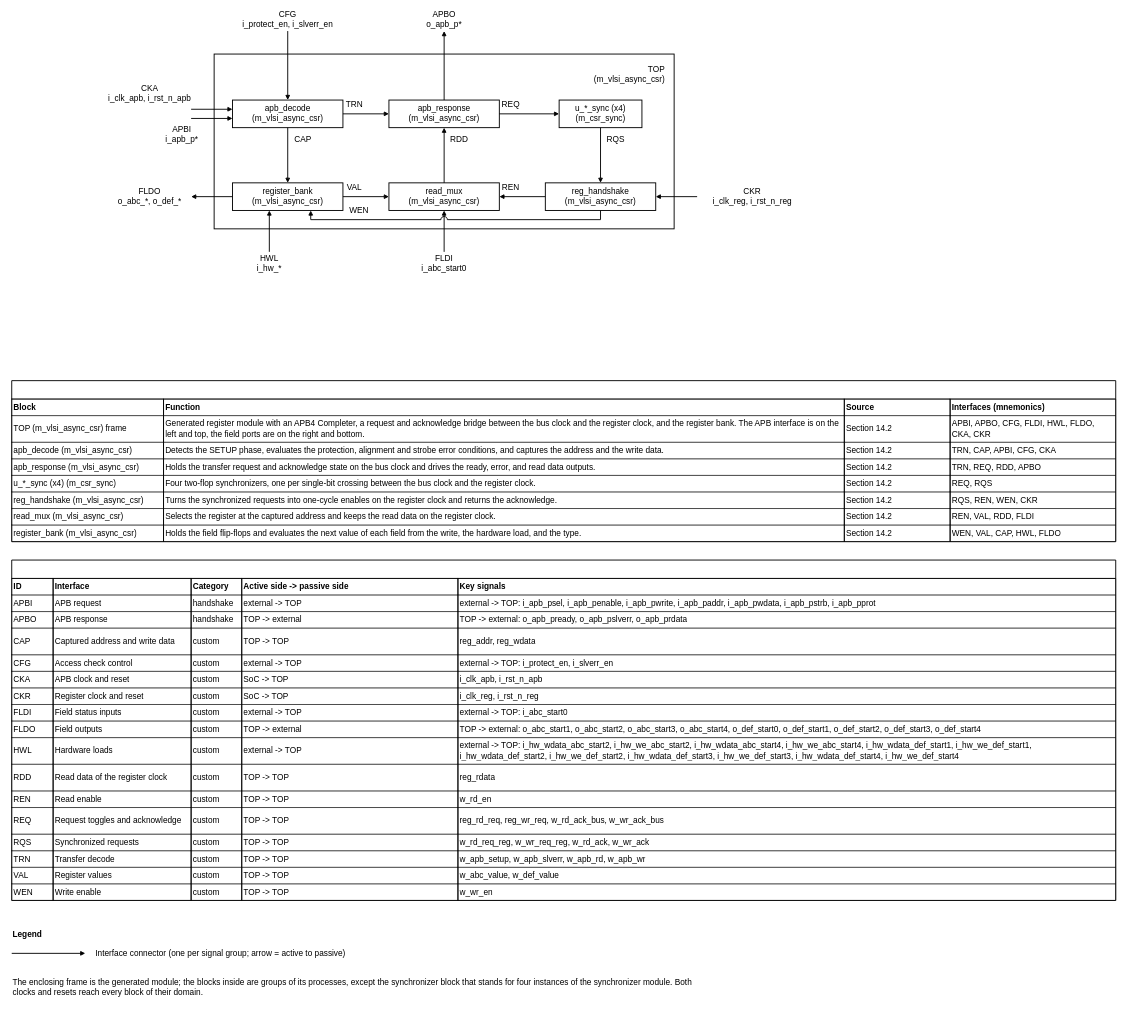
The diagram is 1124 pixels wide and 1016 high, and some of its shapes have lost their labels. Here are the shapes that lost their labels. From the top down, the box of each, then its label:
(11, 380, 1116, 542): Block Functions & Interfaces
(11, 559, 1116, 901): Interface Table
